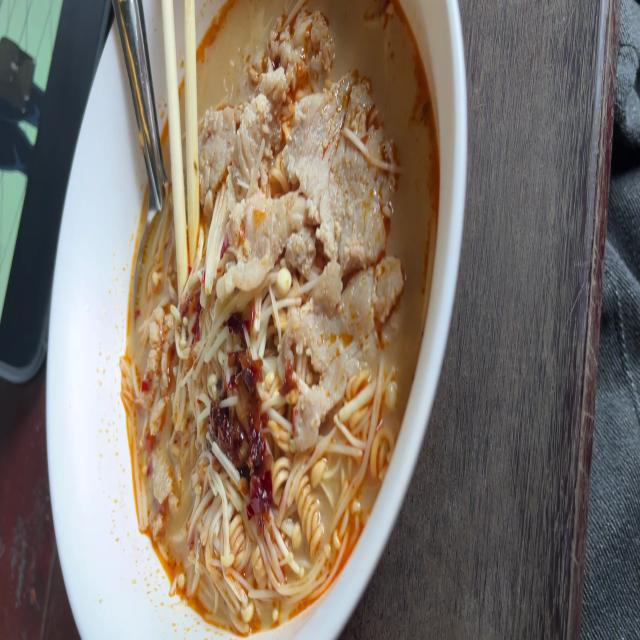noodle: (123, 1, 455, 638)
